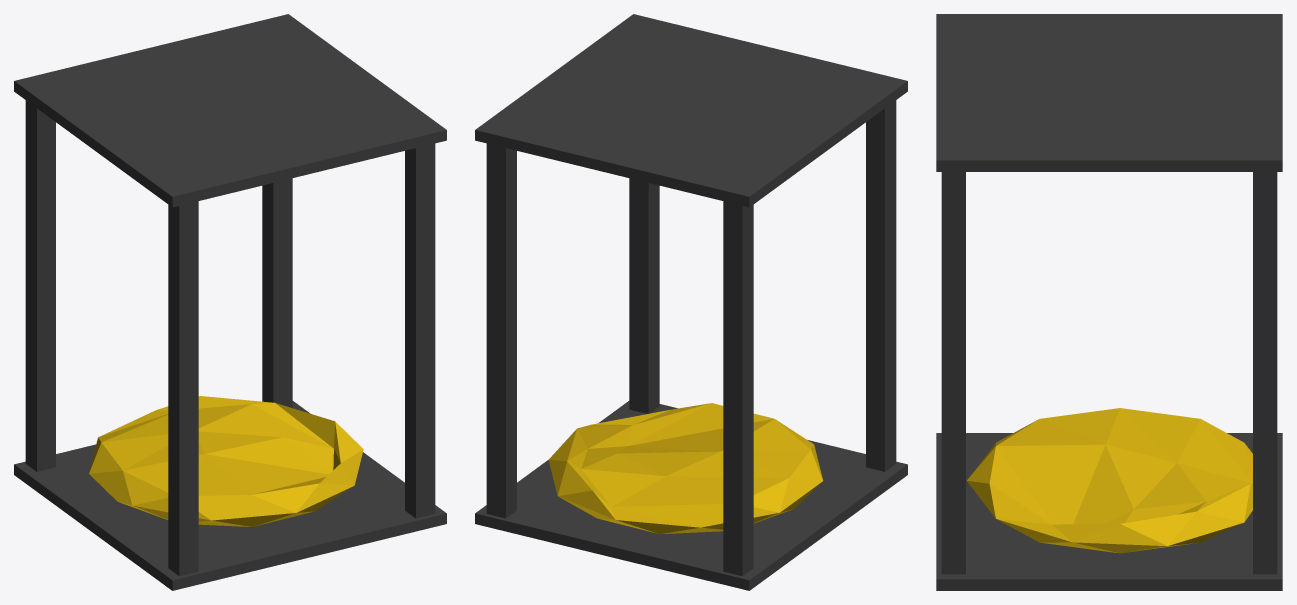
The model's file is hourglass_shattered.fbx.
3 renders of one model, left to right at view 1: azimuth 30°, elevation 25°; view 2: azimuth 150°, elevation 25°; view 3: azimuth 270°, elevation 25°, orthographic. The views are drawn at different scales.
Parts seen in each view (by area): view 1: Cylinder.002, Cylinder; view 2: Cylinder.002, Cylinder; view 3: Cylinder.002, Cylinder.
Part boxes in pixels (<box>): Cylinder.002: <box>14,14,446,590</box>; Cylinder: <box>89,396,363,526</box>; Cylinder.002: <box>475,14,907,590</box>; Cylinder: <box>548,403,823,534</box>; Cylinder.002: <box>936,14,1282,590</box>; Cylinder: <box>966,408,1252,553</box>.
Bounding box in the file's own units: 200 × 274 × 200.
